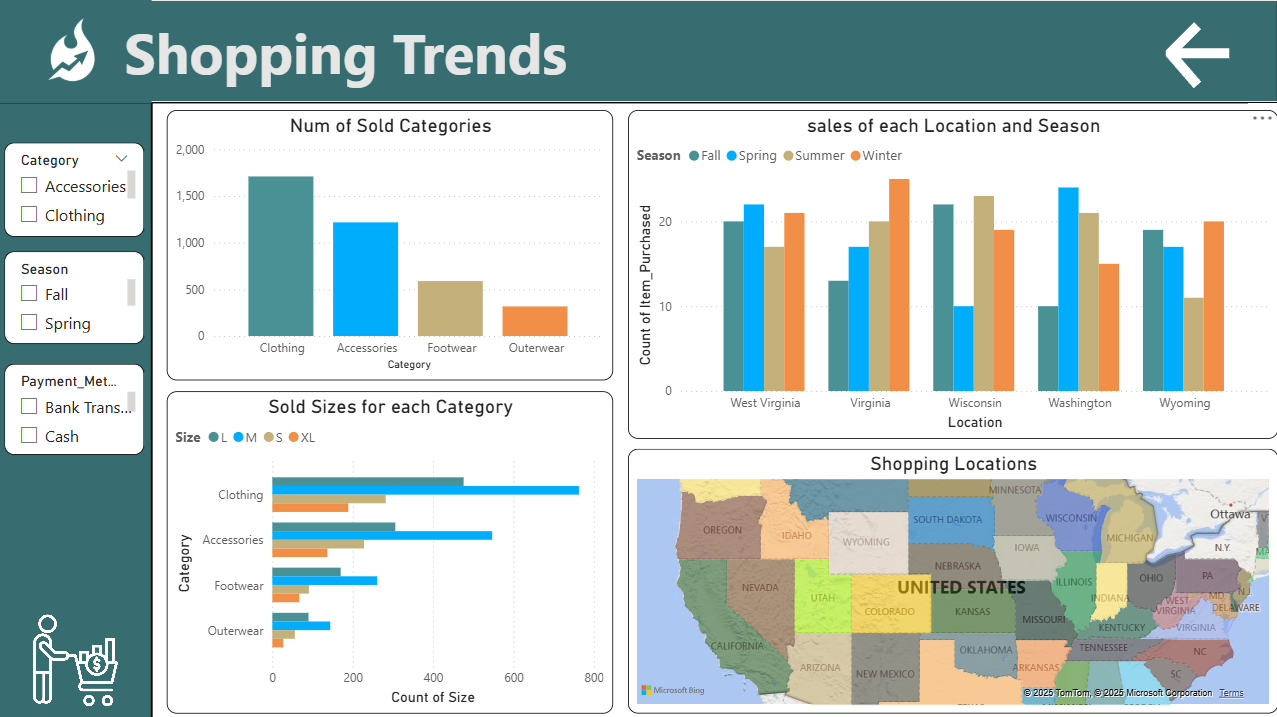

The page's visual inventory and layout, read from the dashboard file:
{"tool":"powerbi","page":{"name":"Duplicate of Page 1","canvas":[1280,720],"ordinal":1},"visuals":[{"type":"shape","box":[0,0,154.3,720],"z":1000},{"type":"shape","box":[0,0,1280,102.9],"z":2000},{"type":"actionButton","box":[1164.3,17.1,92.9,75.7],"z":3000},{"type":"slicer","fields":{"Values":["Shopping_Trends_Cleaned.Category"]},"box":[6.7,142.3,140,94.3],"z":4000},{"type":"shape","box":[0,0,153.6,103.3],"z":5000},{"type":"textbox","box":[121.7,8.3,466.7,95],"z":6000},{"type":"slicer","fields":{"Values":["Shopping_Trends_Cleaned.Season"]},"box":[6.7,250.9,140,92.9],"z":7000},{"type":"slicer","fields":{"Values":["Shopping_Trends_Cleaned.Payment_Method"]},"box":[6.7,363.8,140,91.4],"z":8000},{"type":"image","box":[0,601.7,155,118.3],"z":9000},{"type":"image","box":[0,0,146.7,100],"z":10000},{"type":"columnChart","title":"Num of Sold Categories","fields":{"Category":["Shopping_Trends_Cleaned.Category"],"Y":["CountNonNull(Shopping_Trends_Cleaned.Customer_ID)"],"Series":["Shopping_Trends_Cleaned.Category"]},"box":[168.3,110,446.7,270],"z":11000},{"type":"clusteredBarChart","title":"Sold Sizes for each Category","fields":{"Category":["Shopping_Trends_Cleaned.Category"],"Y":["CountNonNull(Shopping_Trends_Cleaned.Size)"],"Series":["Shopping_Trends_Cleaned.Size"]},"box":[168.8,391.2,446.2,322.5],"z":12000},{"type":"clusteredColumnChart","title":"sales of each Location and Season","fields":{"Category":["Shopping_Trends_Cleaned.Location"],"Y":["CountNonNull(Shopping_Trends_Cleaned.Item_Purchased)"],"Series":["Shopping_Trends_Cleaned.Season"]},"box":[630,110,650,328.8],"z":13000},{"type":"filledMap","title":"Shopping Locations","fields":{"Category":["Shopping_Trends_Cleaned.Location"],"Series":["Shopping_Trends_Cleaned.Location"]},"box":[630,448.3,650,265],"z":14000}]}

Visuals, with their boxes in screenshot pixels (x1, y1, x2, y2), scaled from the page's 1280x720 canvas onto the 1277x717 screenshot:
shape: x1=0 y1=0 x2=154 y2=716
shape: x1=0 y1=0 x2=1276 y2=102
actionButton: x1=1162 y1=17 x2=1254 y2=92
slicer - Shopping_Trends_Cleaned.Category: x1=7 y1=142 x2=146 y2=236
shape: x1=0 y1=0 x2=153 y2=103
textbox: x1=121 y1=8 x2=587 y2=103
slicer - Shopping_Trends_Cleaned.Season: x1=7 y1=250 x2=146 y2=342
slicer - Shopping_Trends_Cleaned.Payment_Method: x1=7 y1=362 x2=146 y2=453
image: x1=0 y1=599 x2=155 y2=716
image: x1=0 y1=0 x2=146 y2=100
"Num of Sold Categories" columnChart: x1=168 y1=110 x2=614 y2=378
"Sold Sizes for each Category" clusteredBarChart: x1=168 y1=390 x2=614 y2=711
"sales of each Location and Season" clusteredColumnChart: x1=629 y1=110 x2=1276 y2=437
"Shopping Locations" filledMap: x1=629 y1=446 x2=1276 y2=710
